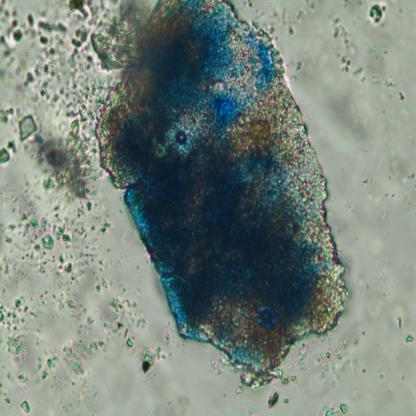Background material: (14, 0, 116, 116), (0, 287, 94, 379), (34, 113, 102, 200), (98, 295, 145, 351), (15, 209, 55, 268), (0, 103, 38, 164), (53, 200, 96, 246), (316, 340, 350, 388), (332, 100, 372, 139), (53, 252, 92, 288), (0, 0, 21, 65), (54, 381, 96, 412), (332, 15, 360, 59), (155, 392, 191, 416), (137, 344, 162, 376), (293, 341, 310, 375), (390, 152, 408, 184), (318, 401, 350, 416), (389, 302, 405, 332), (366, 3, 386, 26), (158, 319, 174, 347), (369, 297, 386, 323), (274, 367, 298, 384), (371, 74, 396, 90), (243, 399, 263, 416), (282, 10, 295, 36), (0, 222, 16, 243), (211, 356, 227, 374), (267, 388, 280, 410), (0, 383, 12, 406), (284, 60, 304, 72), (262, 20, 276, 36), (340, 56, 352, 74), (379, 31, 392, 47), (347, 358, 359, 374), (101, 220, 113, 236), (378, 209, 388, 224), (295, 10, 307, 22), (20, 400, 30, 414), (272, 9, 281, 24), (404, 334, 414, 346), (304, 0, 316, 10), (363, 278, 371, 292), (352, 64, 363, 74), (244, 0, 256, 9), (18, 374, 28, 384), (6, 371, 14, 383), (361, 176, 370, 186), (398, 90, 405, 102), (407, 171, 416, 180), (353, 336, 361, 346), (352, 234, 360, 242), (397, 6, 405, 14), (378, 373, 386, 381), (342, 1, 350, 9), (400, 373, 406, 381), (382, 49, 390, 55), (361, 368, 367, 375), (283, 398, 289, 405), (356, 0, 362, 6), (291, 77, 298, 82), (390, 193, 396, 198), (362, 77, 366, 84), (384, 192, 388, 198), (337, 52, 341, 58), (362, 330, 365, 337), (388, 175, 392, 180), (268, 3, 272, 7), (124, 286, 126, 294), (370, 177, 373, 182), (414, 183, 416, 189)
Fragment: (97, 0, 347, 390)
